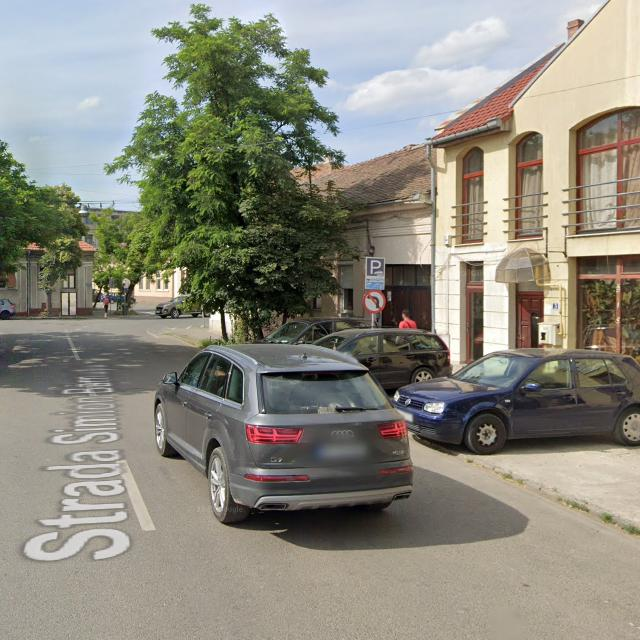forb_left: (362, 290, 386, 314)
info_parking: (366, 258, 384, 276)
